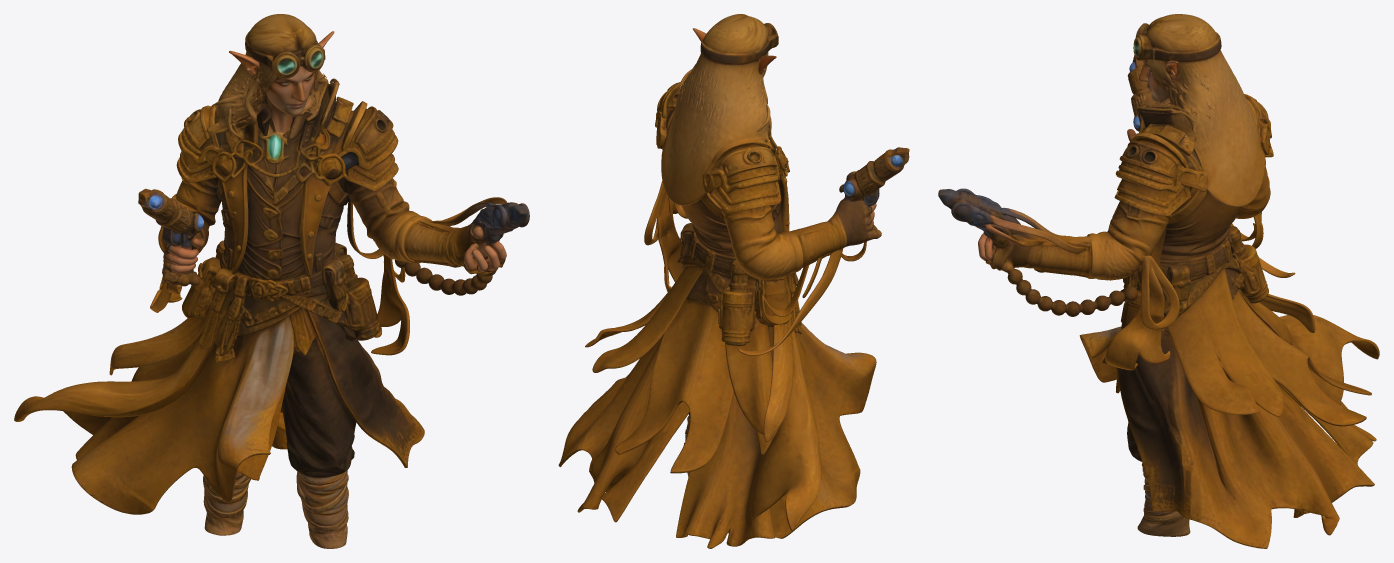
The model's file is elf_artificer_full_male_01.glb.
3 views of the same model, side by side, from view 1: azimuth 30°, elevation 25°; view 2: azimuth 150°, elevation 25°; view 3: azimuth 270°, elevation 25° (orthographic). The views are drawn at different scales.
Visible parts, largest first — view 1: material; view 2: material; view 3: material.
Boxes of the visible parts, x1,y1,x2,y2 form: material: [14, 14, 529, 548]; material: [558, 14, 909, 548]; material: [938, 14, 1379, 548].
Bounding box in the file's own units: 0.6483 × 0.9838 × 0.7937.
1 material, 1 textured.
